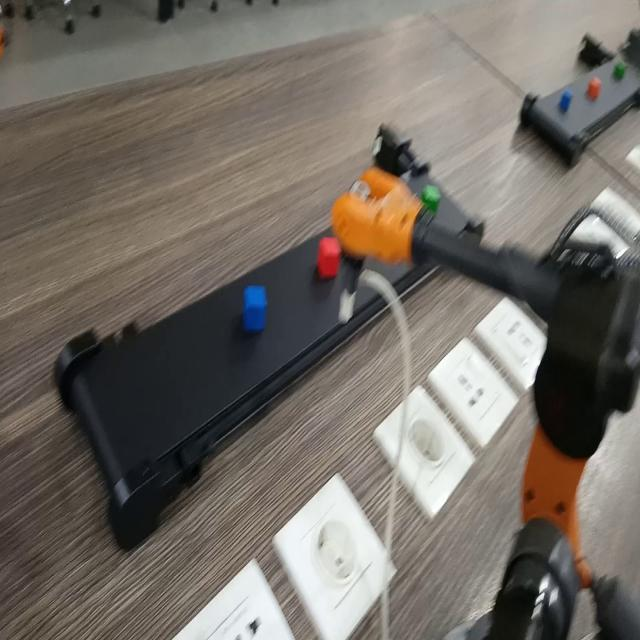cube: (241, 282, 269, 334), (317, 234, 340, 279), (422, 183, 442, 212), (586, 75, 603, 101), (559, 87, 574, 112), (615, 58, 628, 81)
